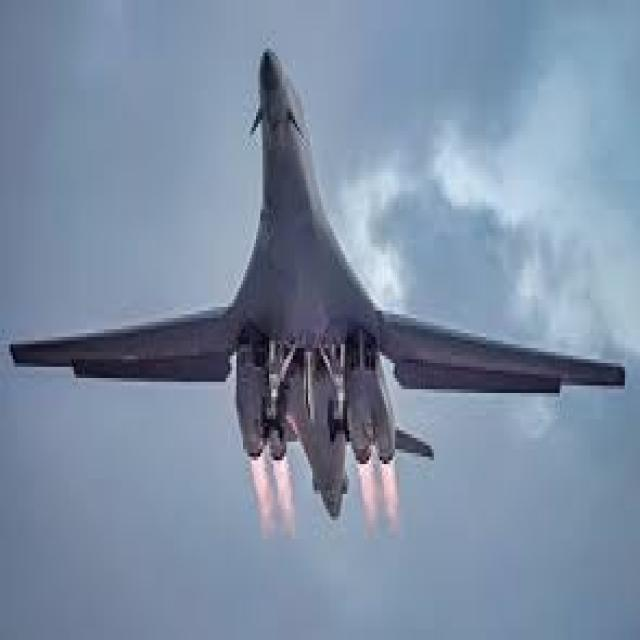B1: (8, 39, 630, 530)
